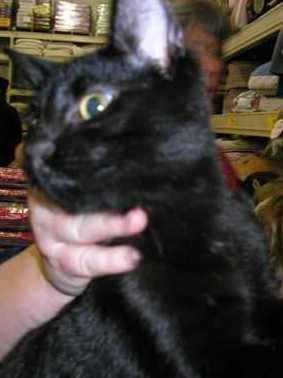Cat: (0, 0, 216, 359)
